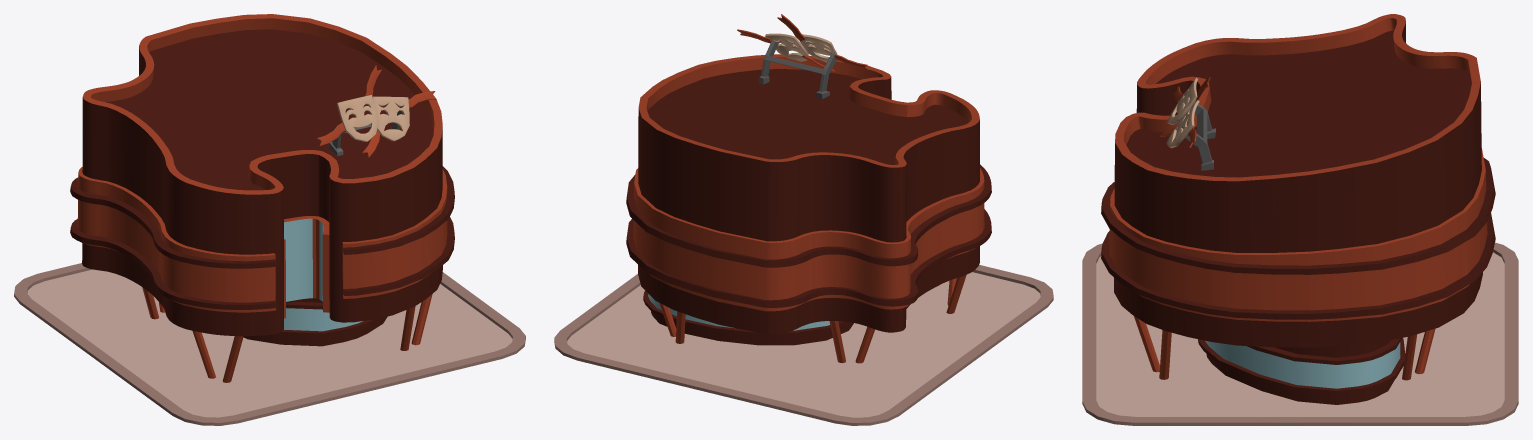
Rendered from Arts_Level_03.fbx.
3 renders of one model, left to right at view 1: azimuth 30°, elevation 25°; view 2: azimuth 150°, elevation 25°; view 3: azimuth 270°, elevation 25°, orthographic. The views are drawn at different scales.
Parts seen in each view (by area): view 1: Art_Level_03; view 2: Art_Level_03; view 3: Art_Level_03.
Part boxes in pixels (bbox=[...]): Art_Level_03: bbox=[14, 14, 525, 425]; Art_Level_03: bbox=[554, 14, 1053, 425]; Art_Level_03: bbox=[1082, 14, 1518, 425].
Size of the model in its own units: 2000 by 1473 by 2000.
